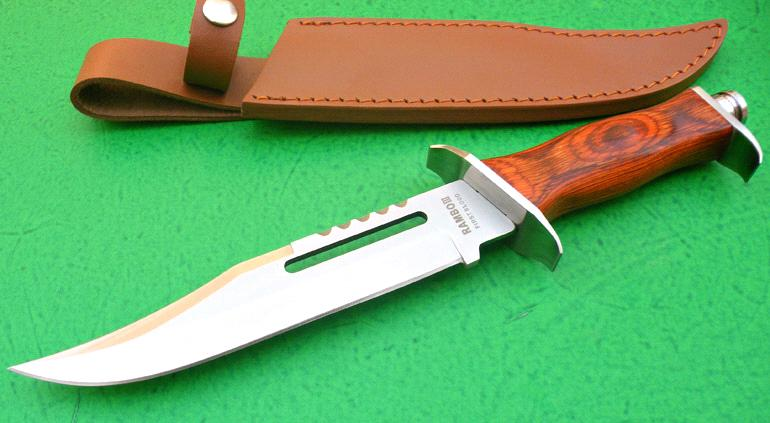knief: (8, 91, 760, 405)
